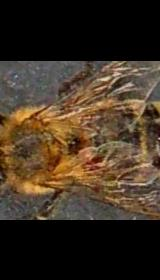varroa_mite: (84, 148, 112, 178)
